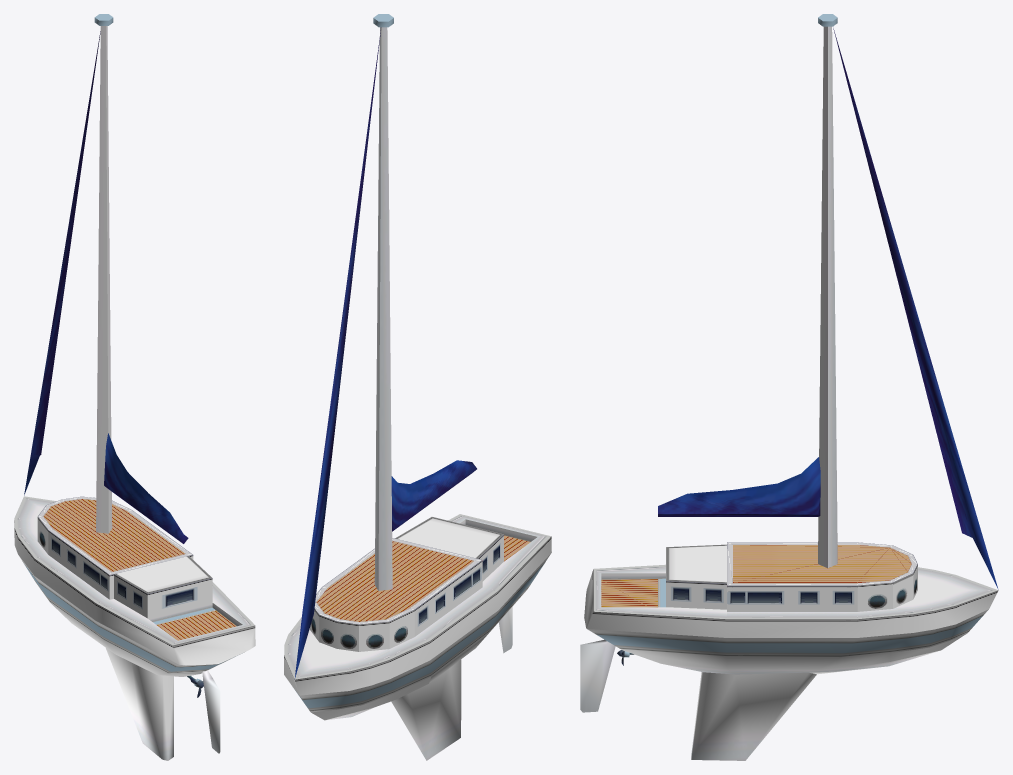
The model's file is riccoyachtl.dae.
The picture shows the model from 3 angles, left to right: view 1: azimuth 30°, elevation 25°; view 2: azimuth 150°, elevation 25°; view 3: azimuth 270°, elevation 25°; orthographic projection. The views are drawn at different scales.
Visible parts, largest first — view 1: n0b0; view 2: n0b0; view 3: n0b0.
Boxes of the visible parts, box(x1,y1,x2,y2) form: n0b0: box(14, 14, 255, 760); n0b0: box(284, 14, 551, 760); n0b0: box(580, 14, 998, 760).
Bounding box in the file's own units: 690 × 4130 × 2106.
Materials: 1 (1 with a texture image).
